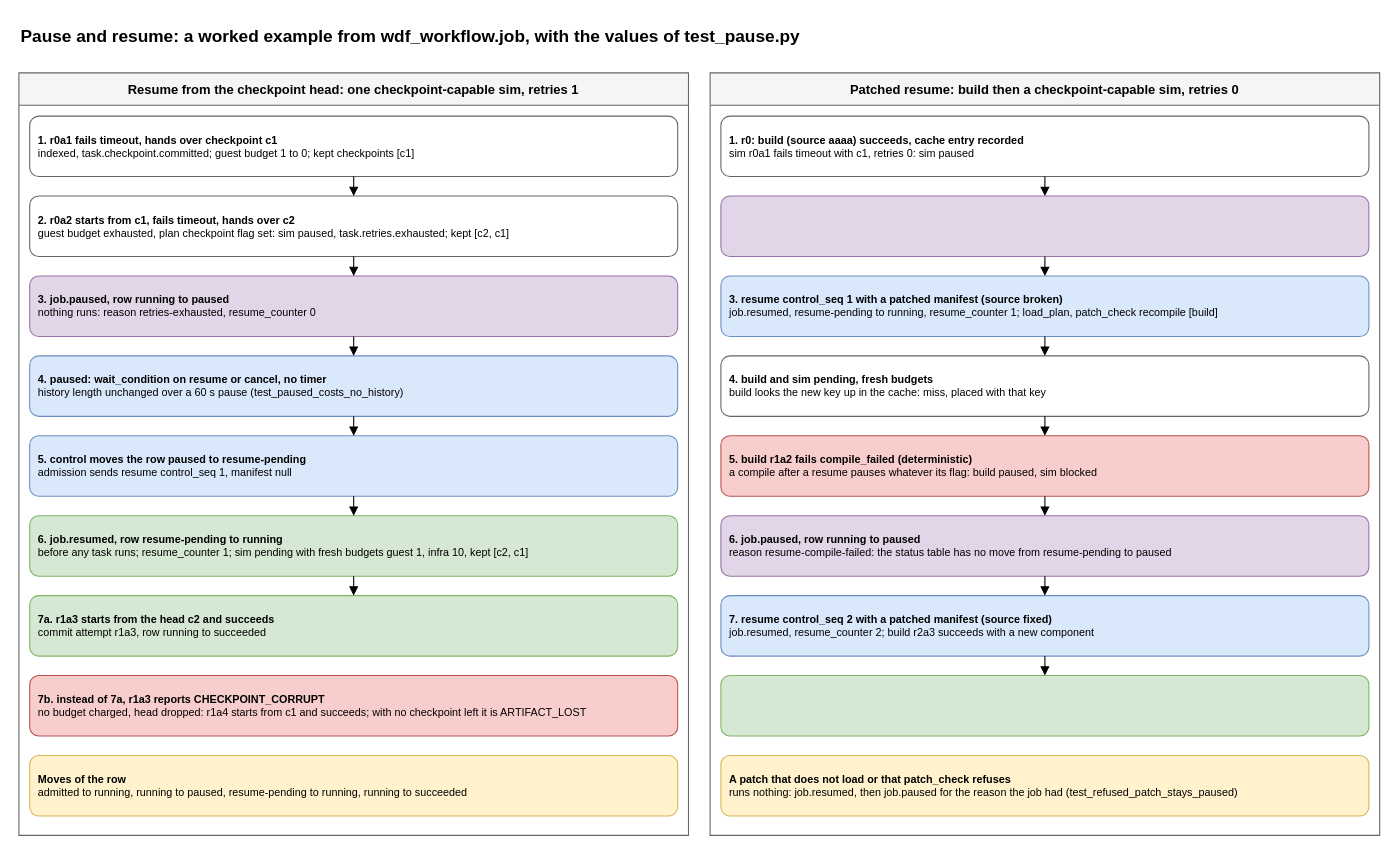
Some shapes in this 1399 by 854 pixel diagram are drawn without their labels. Each missing label, with the centre of its shape:
2. job.paused, row running to paused reason retries-exhausted: the point at 1044,225
8. sim r2a2 starts from c1 and reads the new component row running to succeeded: the point at 1044,705
